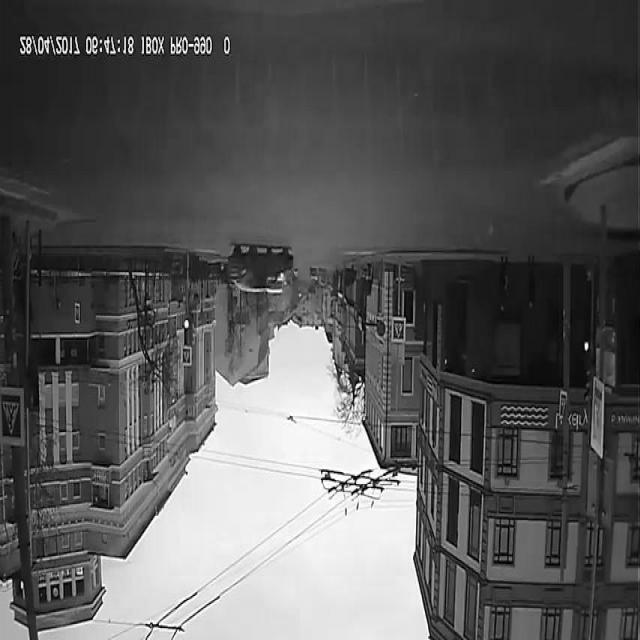moderate: (225, 243, 298, 301)
